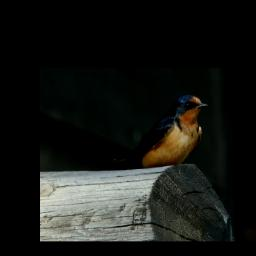Swallow: (83, 95, 209, 170)
